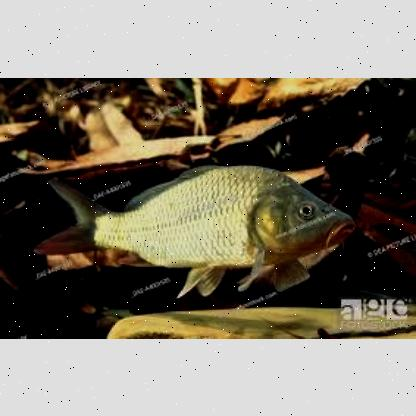ikan-mas: (46, 159, 352, 277)
